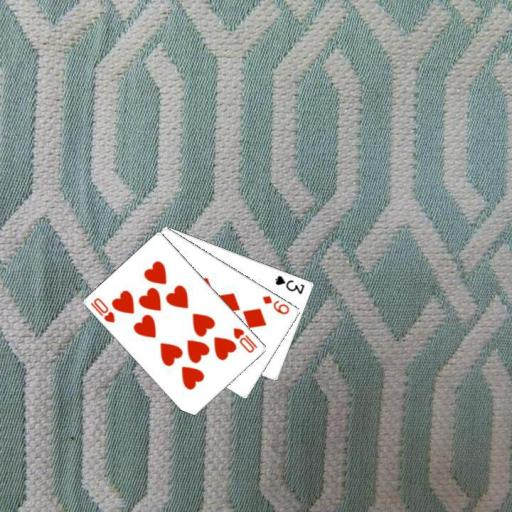10H: (230, 324, 259, 354), (88, 295, 117, 325)
3S: (273, 272, 307, 296)
9D: (260, 292, 292, 316)
